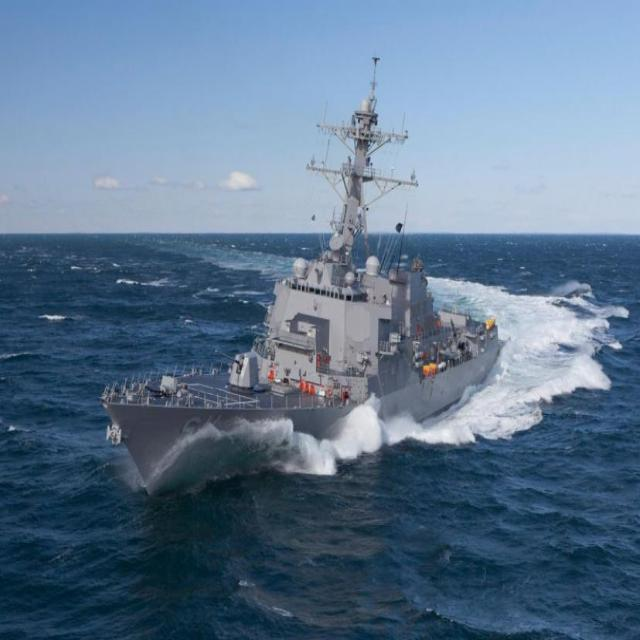navalvessels: (102, 42, 499, 508)
